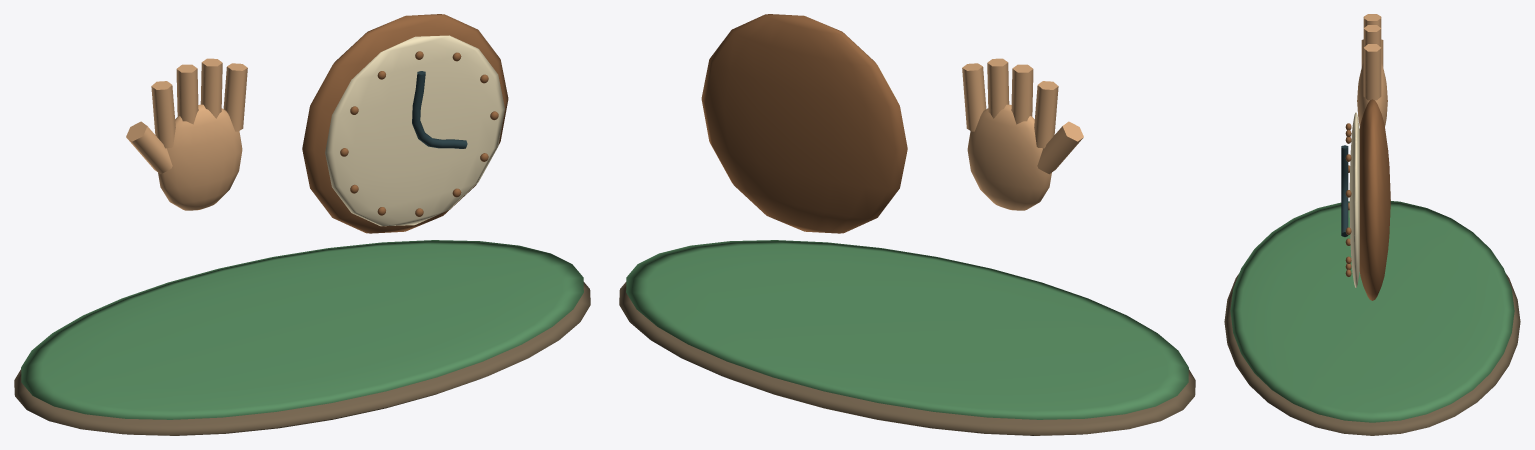
The model's file is press-on-time.glb.
The picture shows the model from 3 angles, left to right: view 1: azimuth 30°, elevation 25°; view 2: azimuth 150°, elevation 25°; view 3: azimuth 270°, elevation 25°; orthographic projection. The views are drawn at different scales.
Parts seen in each view (by area): view 1: press-on-time_surface_01, press-on-time_surface_04, press-on-time_surface_02, press-on-time_surface_00, press-on-time_surface_03, press-on-time_surface_05; view 2: press-on-time_surface_01, press-on-time_surface_03, press-on-time_surface_02, press-on-time_surface_00; view 3: press-on-time_surface_01, press-on-time_surface_03, press-on-time_surface_00, press-on-time_surface_02, press-on-time_surface_04, press-on-time_surface_05.
Boxes of the visible parts, <box> form: press-on-time_surface_01: <box>21,240,583,419</box>; press-on-time_surface_04: <box>325,35,504,226</box>; press-on-time_surface_02: <box>126,58,247,210</box>; press-on-time_surface_00: <box>14,282,590,435</box>; press-on-time_surface_03: <box>302,14,508,233</box>; press-on-time_surface_05: <box>412,71,467,148</box>; press-on-time_surface_01: <box>626,240,1188,419</box>; press-on-time_surface_03: <box>701,14,907,233</box>; press-on-time_surface_02: <box>962,58,1083,210</box>; press-on-time_surface_00: <box>619,282,1195,435</box>; press-on-time_surface_01: <box>1230,201,1514,422</box>; press-on-time_surface_03: <box>1345,99,1390,300</box>; press-on-time_surface_00: <box>1224,274,1520,435</box>; press-on-time_surface_02: <box>1357,14,1387,125</box>; press-on-time_surface_04: <box>1349,112,1359,287</box>; press-on-time_surface_05: <box>1341,145,1348,236</box>.
Size of the model in its own units: 4.56 by 2.52 by 2.5.
